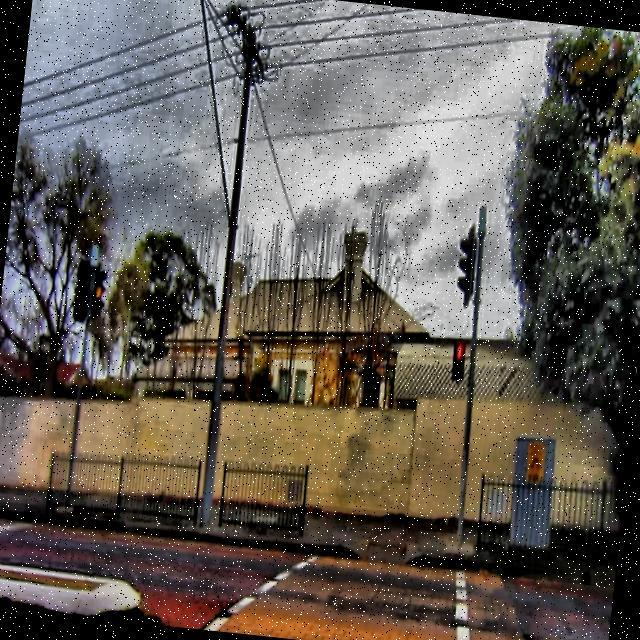red_light: (454, 341, 464, 362)
